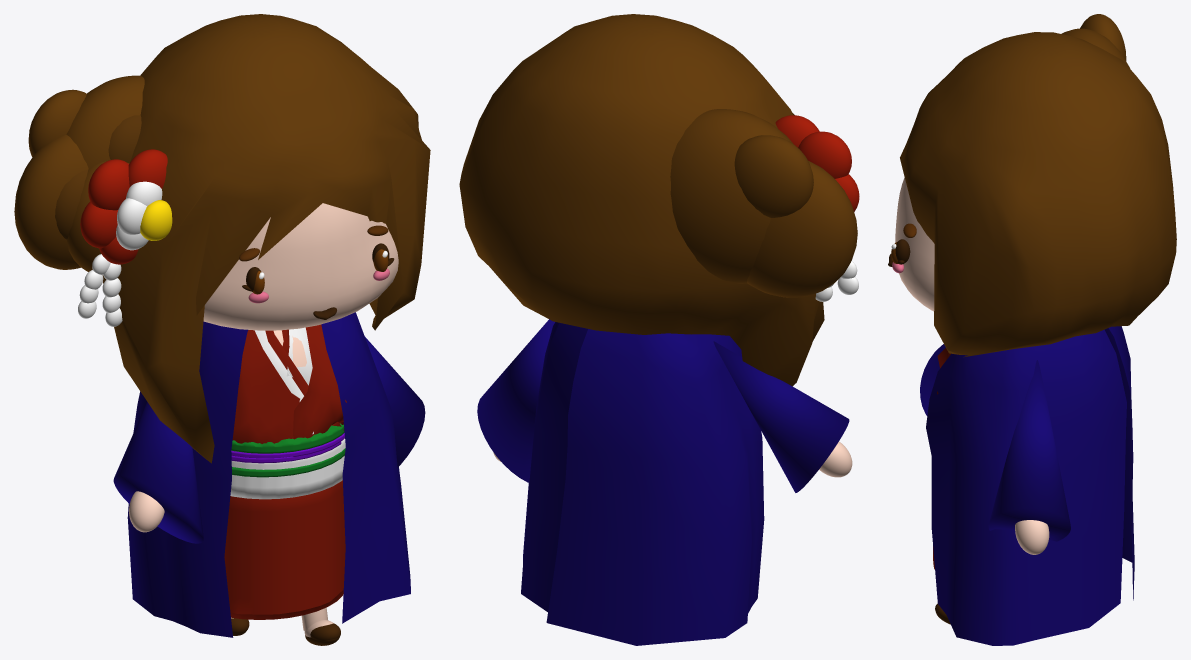
Rendered from tania.glb.
3 renders of one model, left to right at view 1: azimuth 30°, elevation 25°; view 2: azimuth 150°, elevation 25°; view 3: azimuth 270°, elevation 25°, orthographic. The views are drawn at different scales.
Parts seen in each view (by area): view 1: head, body, hand right, hand left, leg right; view 2: head, body, hand right, hand left; view 3: head, body, hand left, hand right.
Boxes of the visible parts, box(x1,y1,x2,y2) form: head: box(14, 14, 430, 463); body: box(127, 312, 410, 637); hand right: box(113, 402, 203, 543); hand left: box(365, 337, 425, 467); leg right: box(301, 607, 340, 645); head: box(459, 14, 859, 386); body: box(521, 322, 764, 645); hand right: box(713, 341, 852, 492); hand left: box(477, 319, 554, 482); head: box(888, 14, 1176, 357); body: box(926, 326, 1134, 645); hand left: box(988, 360, 1070, 554); hand right: box(920, 344, 945, 415).
Bounding box in the file's own units: 3.96 × 5.9 × 2.7.
